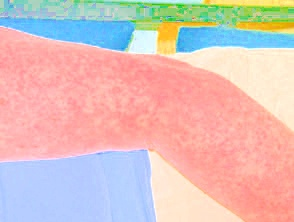SJS-TEN: (0, 18, 294, 222)
